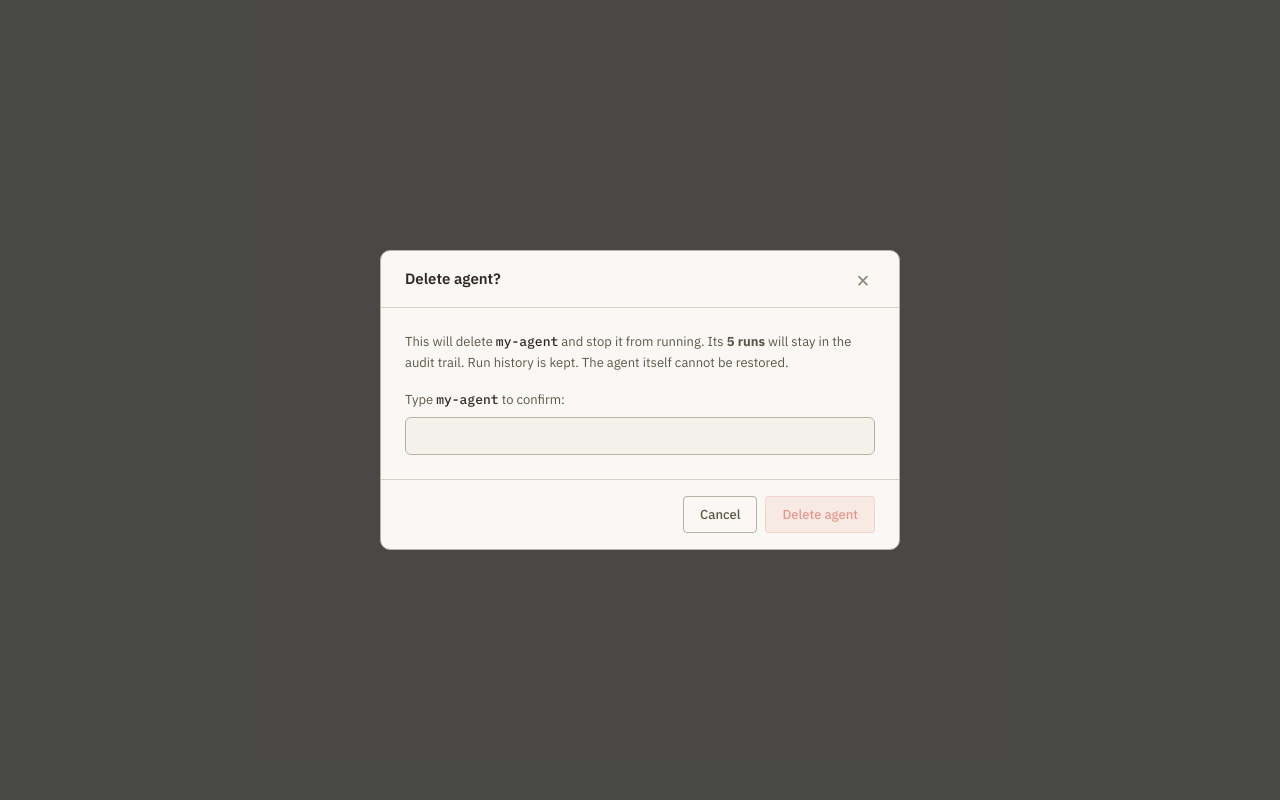
it: DeleteAgentModal — confirm name gating › Delete agent button is disabled again if name is changed after being correct
This screenshot has width=1280, height=800.
Type "my-agent" into the field labelled "Type my-agent to confirm:".
click(640, 436); type("my-agent")  # box [405, 417, 875, 454]
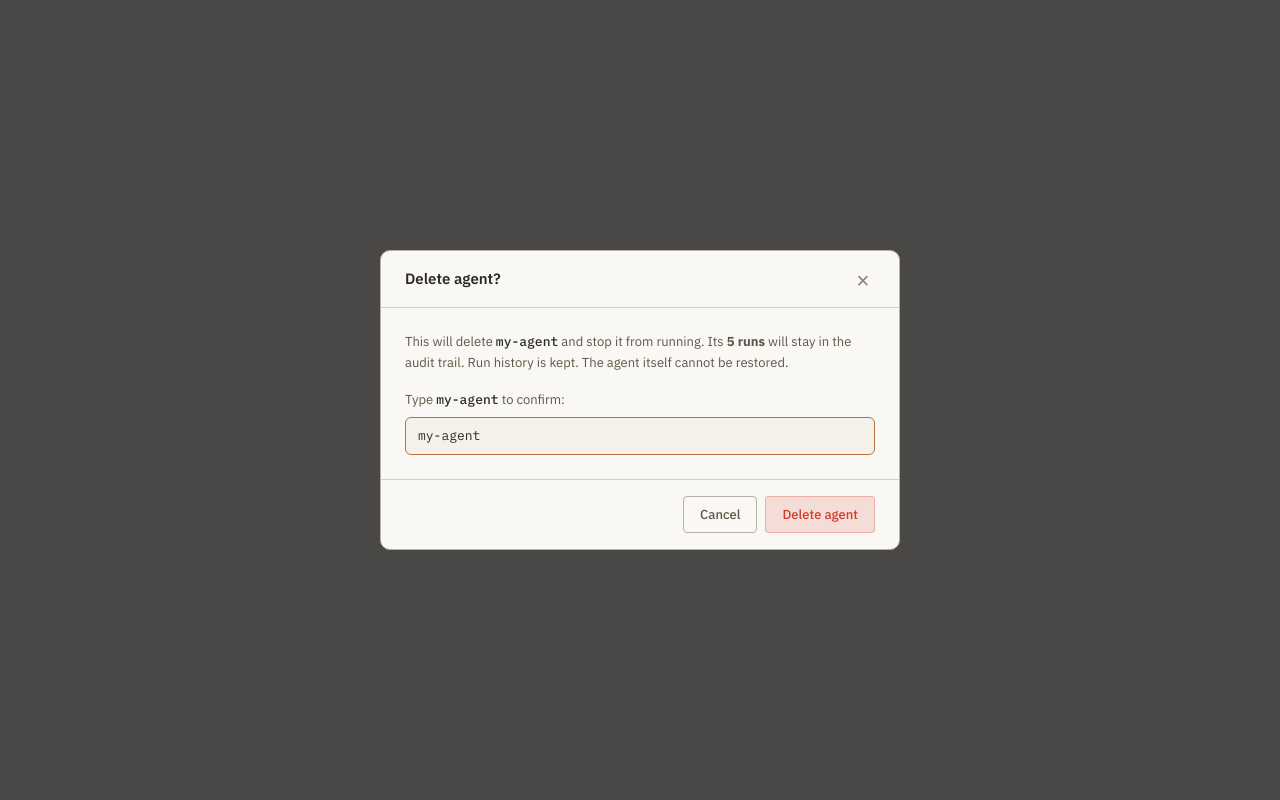
Type "x" into the field labelled "Type my-agent to confirm:".
click(640, 436); type("x")  # box [405, 417, 875, 454]
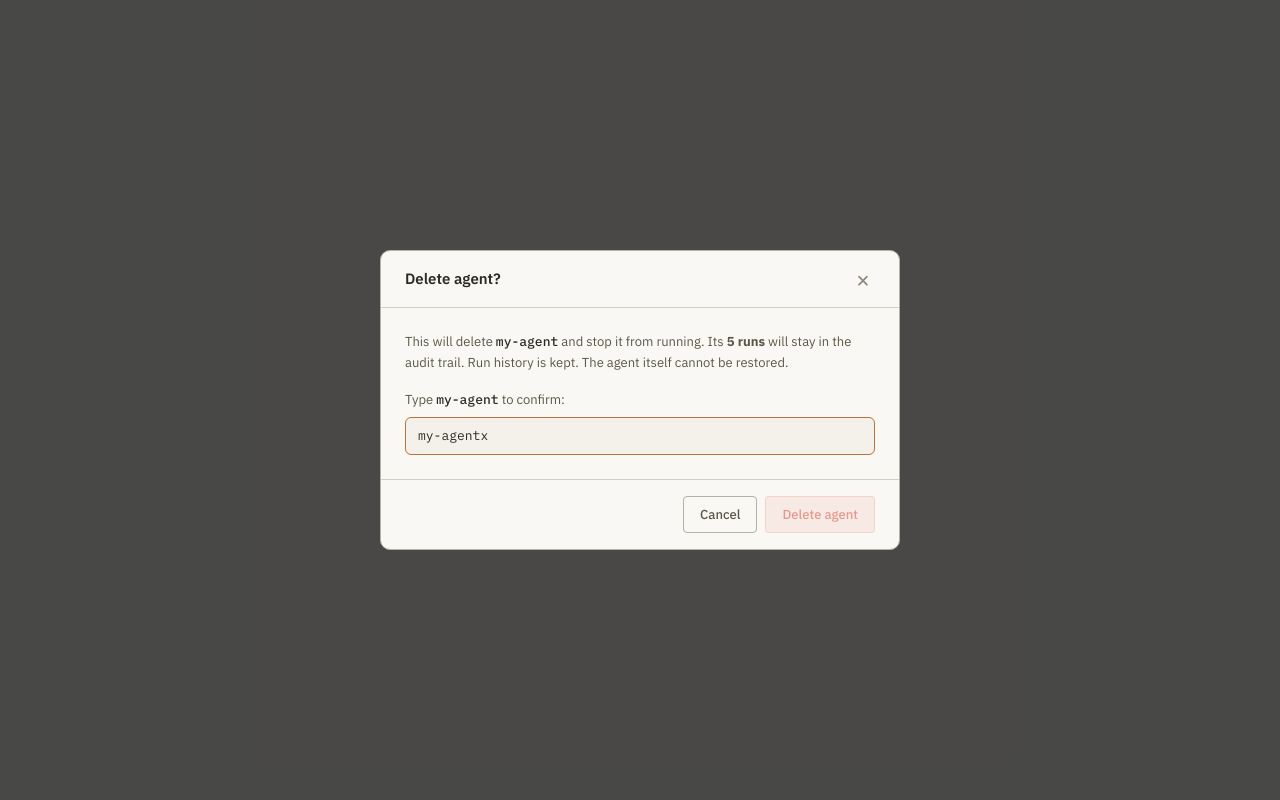
Check: the button "Delete agent" is disabled, box [766, 496, 875, 533]
